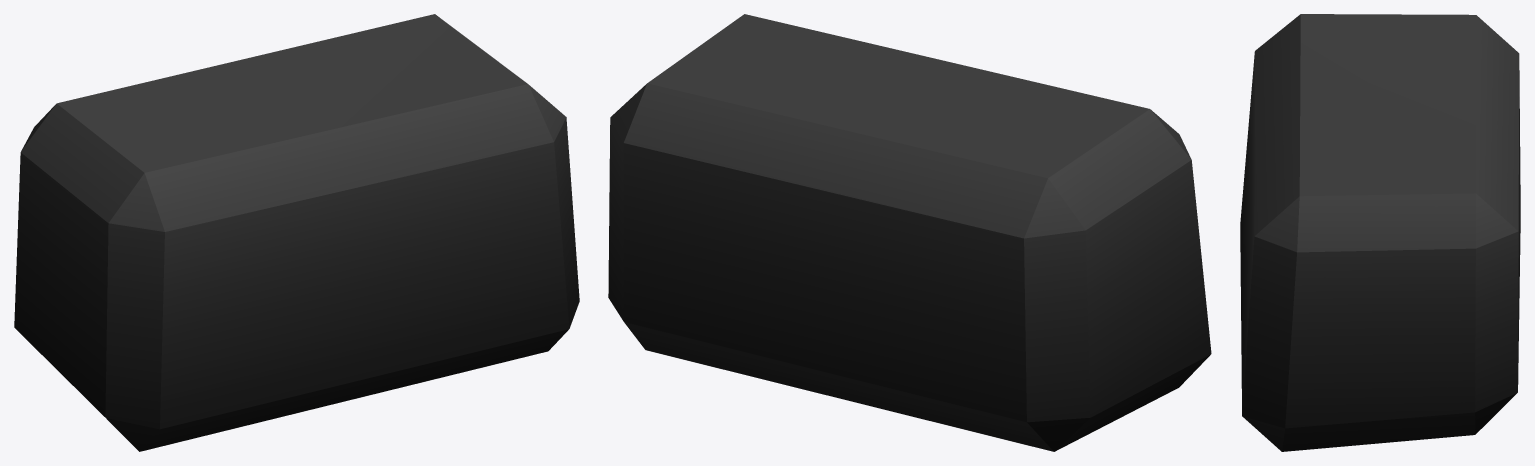
The model's file is Brick_Single_SH_02.fbx.
The picture shows the model from 3 angles, left to right: view 1: azimuth 30°, elevation 25°; view 2: azimuth 150°, elevation 25°; view 3: azimuth 270°, elevation 25°; orthographic projection. The views are drawn at different scales.
Parts seen in each view (by area): view 1: Brick_Single_SH_02; view 2: Brick_Single_SH_02; view 3: Brick_Single_SH_02.
Boxes of the visible parts, box(x1,y1,x2,y2) form: Brick_Single_SH_02: box(14, 14, 579, 451); Brick_Single_SH_02: box(608, 14, 1211, 451); Brick_Single_SH_02: box(1240, 14, 1520, 451).
Bounding box in the file's own units: 36.79 × 19.85 × 19.73.
